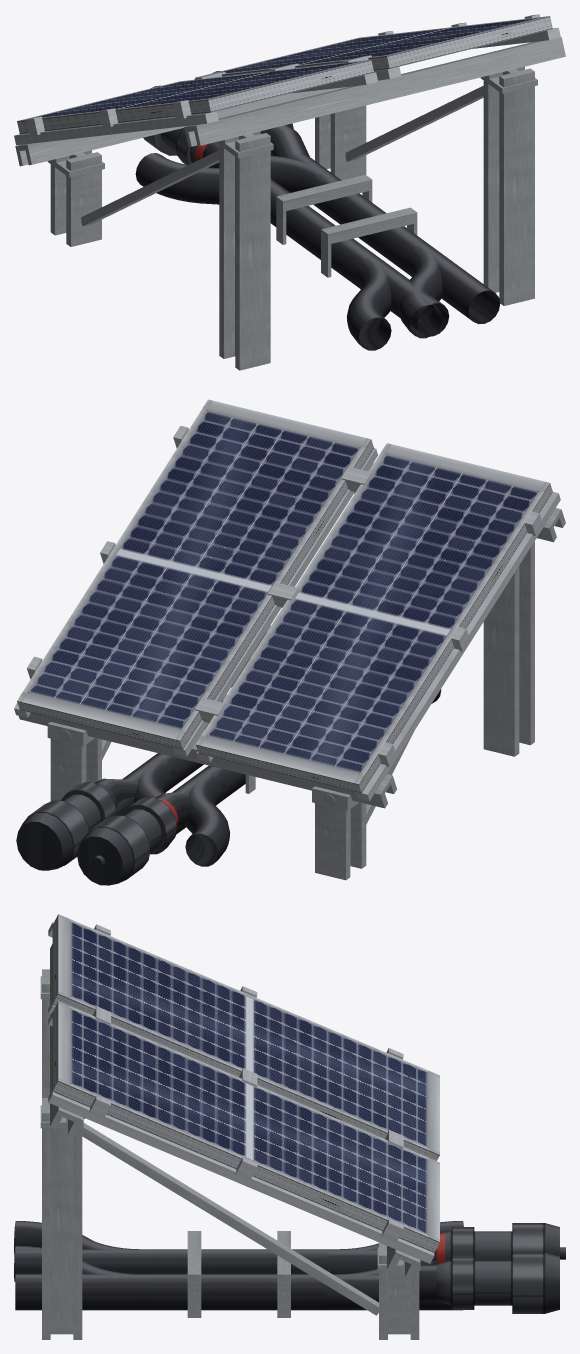
The model's file is pv_tilt.obj.
The picture shows the model from 3 angles, top to bottom: view 1: azimuth 30°, elevation 25°; view 2: azimuth 150°, elevation 25°; view 3: azimuth 270°, elevation 25°; orthographic projection.
Parts seen in each view (by area): view 1: piers, modules, harness, purlin_1, harness_entry_south, harness_lead_south, harness_entry_north, rails, purlin_0, harness_input; view 2: modules, piers, harness_input, rails, harness_entry_north, purlin_0, harness, harness_lead_north; view 3: modules, piers, harness_input, harness, harness_lead_south, rails, harness_lead_north, harness_entry_south, purlin_1, purlin_0, harness_entry_north.
Part boxes in pixels (box(x1,y1,x2,y2)): piers: box(47, 66, 537, 370); modules: box(17, 14, 552, 135); harness: box(270, 174, 426, 283); purlin_1: box(184, 36, 565, 146); harness_entry_south: box(346, 245, 442, 350); harness_lead_south: box(347, 240, 500, 336); harness_entry_north: box(135, 153, 326, 204); rails: box(14, 27, 560, 145); purlin_0: box(15, 87, 347, 166); harness_input: box(143, 71, 337, 208); modules: box(17, 399, 552, 793); piers: box(47, 541, 534, 880); harness_input: box(16, 756, 228, 885); rails: box(14, 448, 560, 801); harness_entry_north: box(134, 758, 229, 866); purlin_0: box(15, 702, 396, 808); harness: box(152, 694, 255, 799); harness_lead_north: box(116, 756, 228, 834); modules: box(52, 914, 439, 1252); piers: box(40, 969, 421, 1339); harness_input: box(323, 1223, 565, 1313); harness: box(150, 1231, 327, 1317); harness_lead_south: box(15, 1249, 154, 1310); rails: box(48, 922, 434, 1263); harness_lead_north: box(323, 1249, 462, 1310); harness_entry_south: box(14, 1221, 154, 1281); purlin_1: box(50, 944, 82, 1136); purlin_0: box(387, 1246, 419, 1279); harness_entry_north: box(337, 1221, 463, 1275).
Bounding box in the file's own units: 0.94 × 0.6661 × 1.23.
